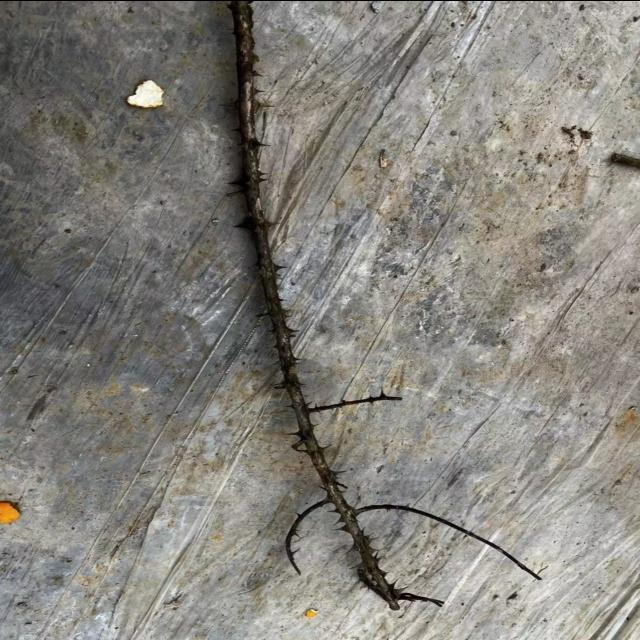branch: (227, 0, 404, 609)
